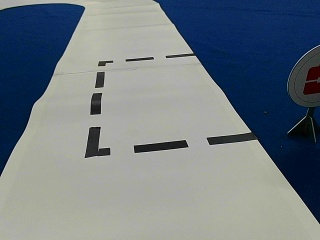company: (287, 45, 320, 104)
